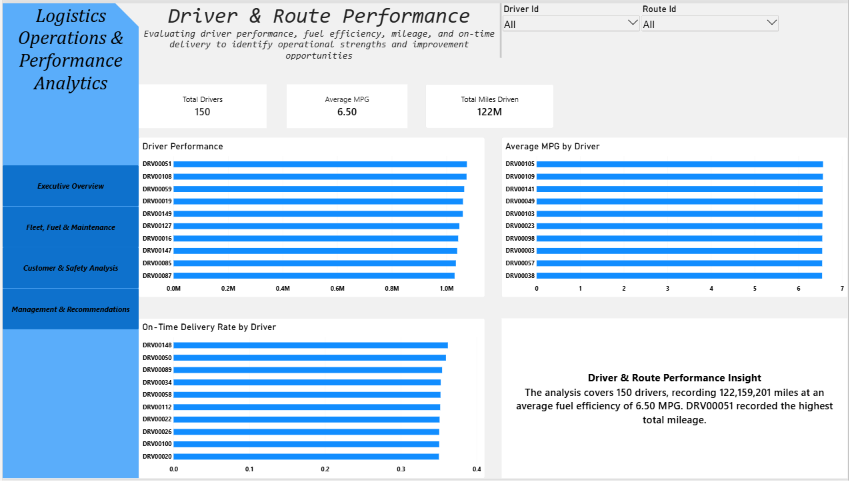

The dashboard page shown, as its layout file describes it:
{"tool":"powerbi","page":{"name":"Driver & Route Performance","canvas":[3840,2160],"ordinal":1},"visuals":[{"type":"shape","box":[0,0,617.8,2157.7],"z":0},{"type":"cardVisual","fields":{"Data":["Drivers.Total Drivers"]},"box":[617.8,368,581.5,199.9],"z":1000},{"type":"cardVisual","fields":{"Data":["Trips.Average MPG"]},"box":[1290.1,368,549.7,199.9],"z":2000},{"type":"cardVisual","fields":{"Data":["Trips.Total Miles Driven"]},"box":[1921.5,368,581.5,199.9],"z":3000},{"type":"clusteredBarChart","title":"Driver Performance","fields":{"Category":["Drivers.driver_id"],"Y":["Trips.Total Miles (Assigned Drivers)"]},"box":[617.8,608.7,1571.7,726.8],"z":4000},{"type":"clusteredBarChart","title":"Average MPG by Driver","fields":{"Category":["Trips.driver_id"],"Y":["Trips.Average MPG"]},"box":[2266.8,608.7,1571.7,726.8],"z":5000},{"type":"clusteredBarChart","title":"On-Time Delivery Rate by Driver","fields":{"Category":["Drivers.driver_id"],"Y":["Delivery Events.On-Time Event Rate (Assigned Drivers)"]},"box":[617.8,1430.9,1571.7,726.8],"z":6000},{"type":"cardVisual","fields":{"Data":["Drivers.Driver & Route Performance Insight"]},"box":[2266.8,1430.9,1571.7,726.8],"z":7000},{"type":"textbox","box":[617.8,0,1649,254.4],"z":8000},{"type":"textbox","box":[0,0,617.8,467.9],"z":9000},{"type":"actionButton","box":[0,735.9,617.8,186.2],"z":10000},{"type":"actionButton","box":[0,922.2,617.8,186.2],"z":11000},{"type":"actionButton","box":[0,1108.4,617.8,186.2],"z":12000},{"type":"actionButton","box":[0,1294.6,617.8,186.2],"z":13000},{"type":"slicer","fields":{"Values":["Drivers.driver_id"]},"box":[2266.8,0,631.4,236.2],"z":14000},{"type":"slicer","fields":{"Values":["Loads.route_id"]},"box":[2898.2,0,631.4,236.2],"z":15000}]}

Visuals, with their boxes in screenshot pixels (x1, y1, x2, y2), scaled from the page's 3840x2160 canvas onto the 850x481 screenshot:
shape: rect(0, 0, 137, 480)
cardVisual - Drivers.Total Drivers: rect(137, 82, 265, 126)
cardVisual - Trips.Average MPG: rect(286, 82, 407, 126)
cardVisual - Trips.Total Miles Driven: rect(425, 82, 554, 126)
"Driver Performance" clusteredBarChart: rect(137, 136, 485, 297)
"Average MPG by Driver" clusteredBarChart: rect(502, 136, 849, 297)
"On-Time Delivery Rate by Driver" clusteredBarChart: rect(137, 319, 485, 480)
cardVisual - Drivers.Driver & Route Performance Insight: rect(502, 319, 849, 480)
textbox: rect(137, 0, 502, 57)
textbox: rect(0, 0, 137, 104)
actionButton: rect(0, 164, 137, 205)
actionButton: rect(0, 205, 137, 247)
actionButton: rect(0, 247, 137, 288)
actionButton: rect(0, 288, 137, 330)
slicer - Drivers.driver_id: rect(502, 0, 642, 53)
slicer - Loads.route_id: rect(642, 0, 781, 53)
